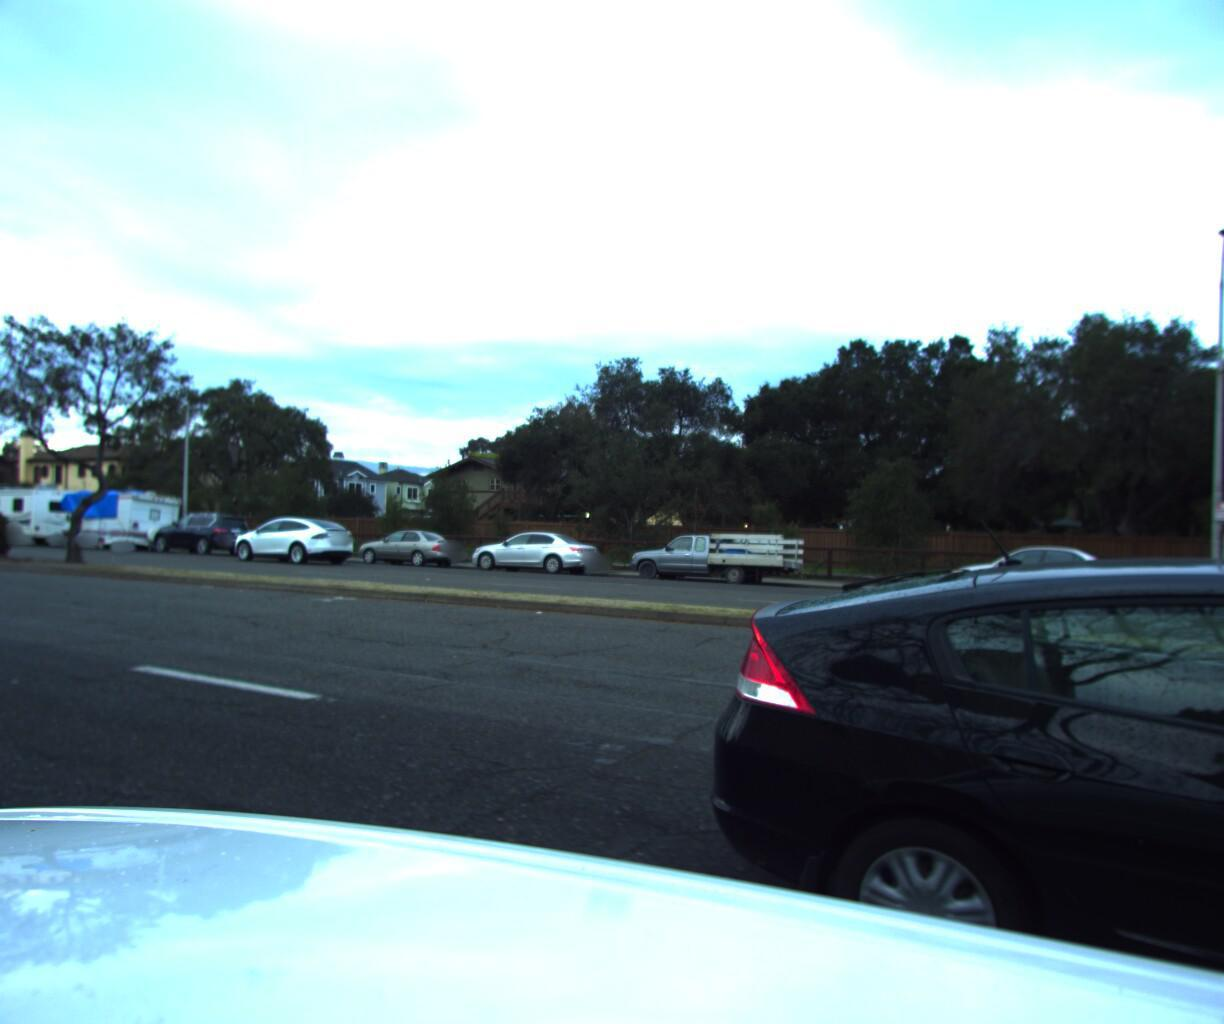car: (609, 552, 1224, 1024), (937, 536, 1136, 607), (622, 523, 808, 585), (458, 524, 608, 577), (220, 509, 368, 560), (148, 506, 264, 561), (350, 525, 469, 567)
other_vehicle: (49, 481, 186, 559), (0, 473, 90, 543)
